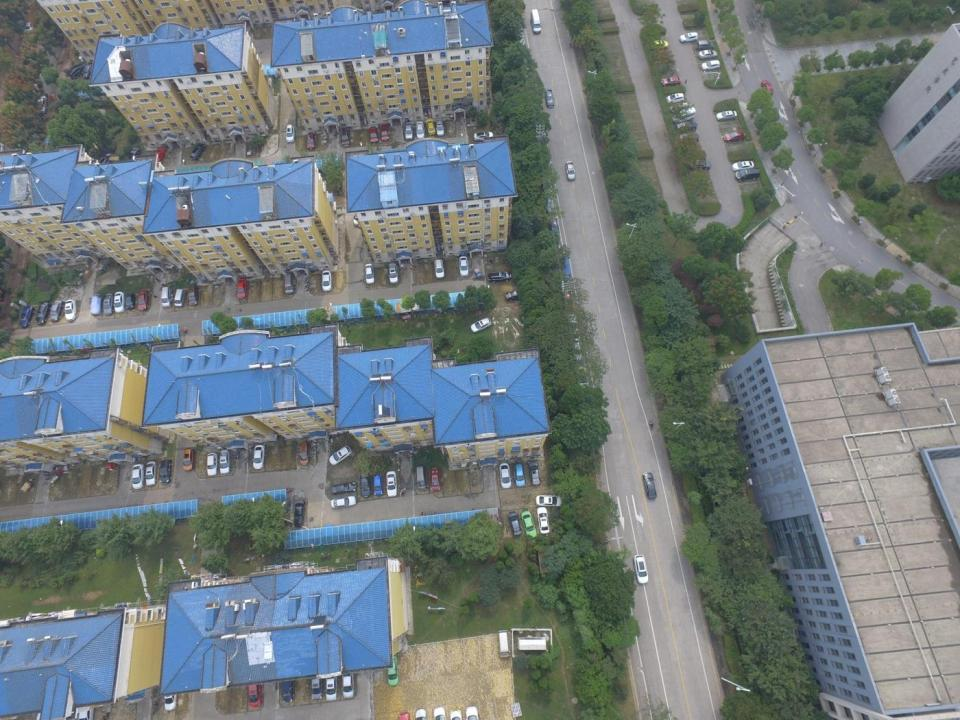car: (162, 680, 178, 710), (248, 678, 264, 707), (329, 446, 352, 465), (521, 511, 537, 538), (642, 471, 657, 499), (634, 555, 648, 584), (341, 667, 354, 698), (537, 506, 551, 534), (324, 673, 338, 701), (498, 463, 513, 489), (131, 463, 145, 490), (18, 306, 35, 328), (387, 655, 399, 686), (536, 494, 564, 507), (470, 318, 492, 334), (35, 302, 51, 324), (218, 449, 232, 474), (528, 460, 541, 486), (293, 500, 306, 526), (330, 496, 356, 509), (281, 676, 294, 702), (508, 511, 522, 535), (182, 448, 196, 472), (159, 459, 173, 483), (144, 462, 158, 486), (49, 300, 64, 322), (78, 698, 93, 720), (513, 463, 526, 487), (330, 482, 356, 494), (360, 472, 372, 498), (385, 471, 397, 497), (311, 673, 323, 699), (252, 445, 265, 469), (69, 63, 86, 80), (189, 144, 206, 161), (206, 452, 218, 476), (577, 367, 590, 389), (137, 289, 150, 311), (488, 272, 512, 283), (114, 292, 126, 314), (732, 160, 754, 172), (64, 300, 77, 320), (186, 285, 199, 305), (572, 338, 583, 361), (505, 290, 526, 302), (568, 314, 580, 335), (372, 475, 384, 496), (90, 294, 102, 315), (430, 467, 440, 492), (103, 293, 114, 315), (689, 159, 711, 170), (321, 271, 333, 291), (236, 278, 248, 298), (97, 154, 114, 168), (152, 148, 166, 165), (81, 62, 94, 80), (364, 263, 375, 284), (388, 263, 399, 284), (716, 110, 737, 121), (299, 442, 309, 465), (284, 124, 296, 143), (36, 96, 49, 113), (544, 88, 555, 108), (565, 161, 576, 181), (549, 218, 560, 238), (679, 32, 699, 43), (676, 121, 698, 131), (724, 132, 746, 142), (670, 102, 689, 113), (761, 80, 774, 96), (459, 256, 469, 276), (700, 60, 720, 70), (473, 132, 495, 141), (666, 92, 684, 103), (678, 133, 700, 142), (341, 127, 350, 148), (661, 77, 682, 86), (545, 197, 556, 214), (125, 293, 136, 310), (466, 706, 479, 720), (434, 260, 444, 278), (552, 242, 564, 257), (698, 50, 717, 59), (307, 132, 316, 150), (651, 40, 669, 49), (434, 707, 446, 720), (129, 148, 140, 162), (369, 126, 378, 143), (380, 124, 389, 141), (416, 122, 425, 139), (436, 118, 444, 137), (24, 17, 34, 32), (404, 122, 412, 140), (426, 119, 435, 135), (565, 292, 574, 308), (353, 211, 361, 226)
truck: (558, 256, 572, 286)
van: (672, 107, 696, 124), (497, 630, 510, 659), (735, 168, 760, 181), (530, 9, 542, 33), (416, 465, 427, 491), (160, 287, 173, 307), (174, 289, 187, 308), (283, 274, 295, 294), (696, 41, 714, 50)
